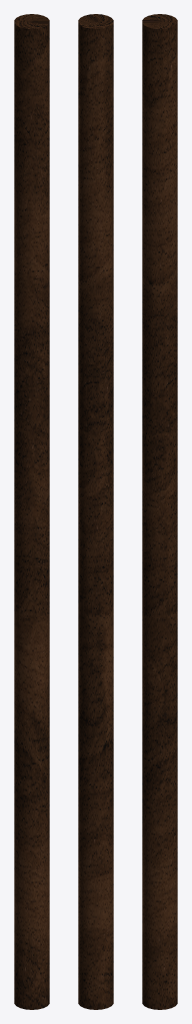
The model's file is goalPole.fbx.
3 renders of one model, left to right at view 1: azimuth 90°, elevation 25°; view 2: azimuth 210°, elevation 25°; view 3: azimuth 270°, elevation 25°, orthographic.
Visible parts, largest first — view 1: Cylinder001; view 2: Cylinder001; view 3: Cylinder001.
Boxes of the visible parts, box(x1,y1,x2,y2) form: Cylinder001: box(14, 14, 49, 1009); Cylinder001: box(78, 14, 113, 1009); Cylinder001: box(142, 14, 177, 1009).
Bounding box in the file's own units: 236 × 7087 × 233.
1 material, 1 textured.
